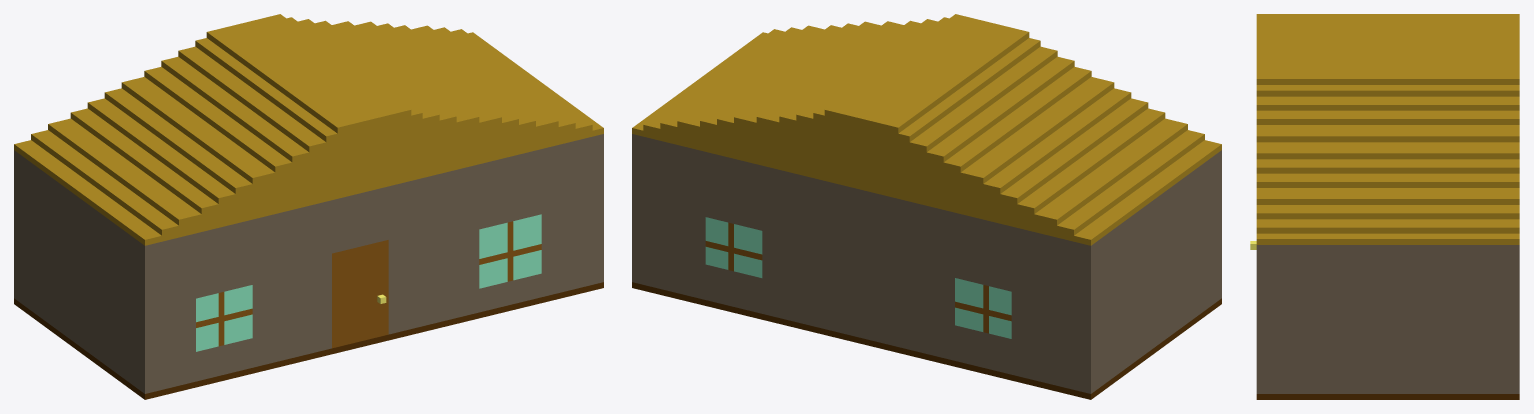
The model's file is BlacksmithHouse.obj.
The picture shows the model from 3 angles, left to right: view 1: azimuth 30°, elevation 25°; view 2: azimuth 150°, elevation 25°; view 3: azimuth 270°, elevation 25°; orthographic projection.
Size of the model in its own units: 81 by 38 by 41.
1 material, 1 textured.
